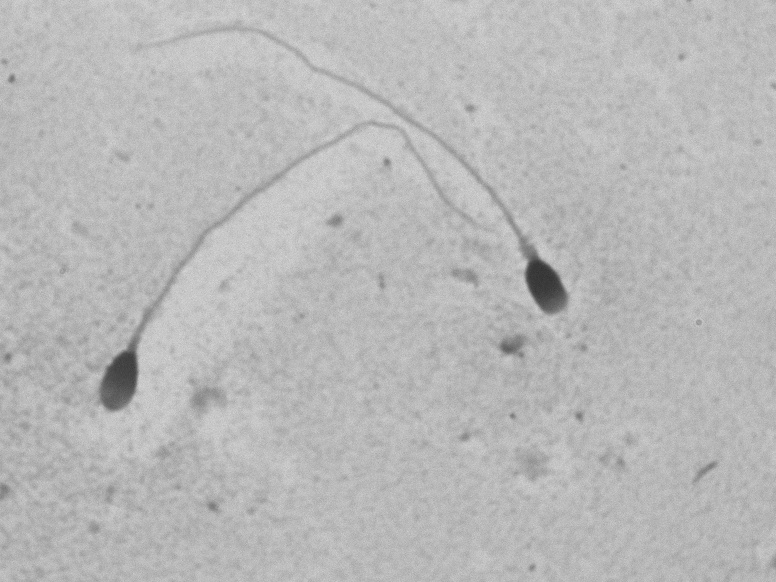Normal: (109, 15, 625, 344), (73, 102, 506, 435)
